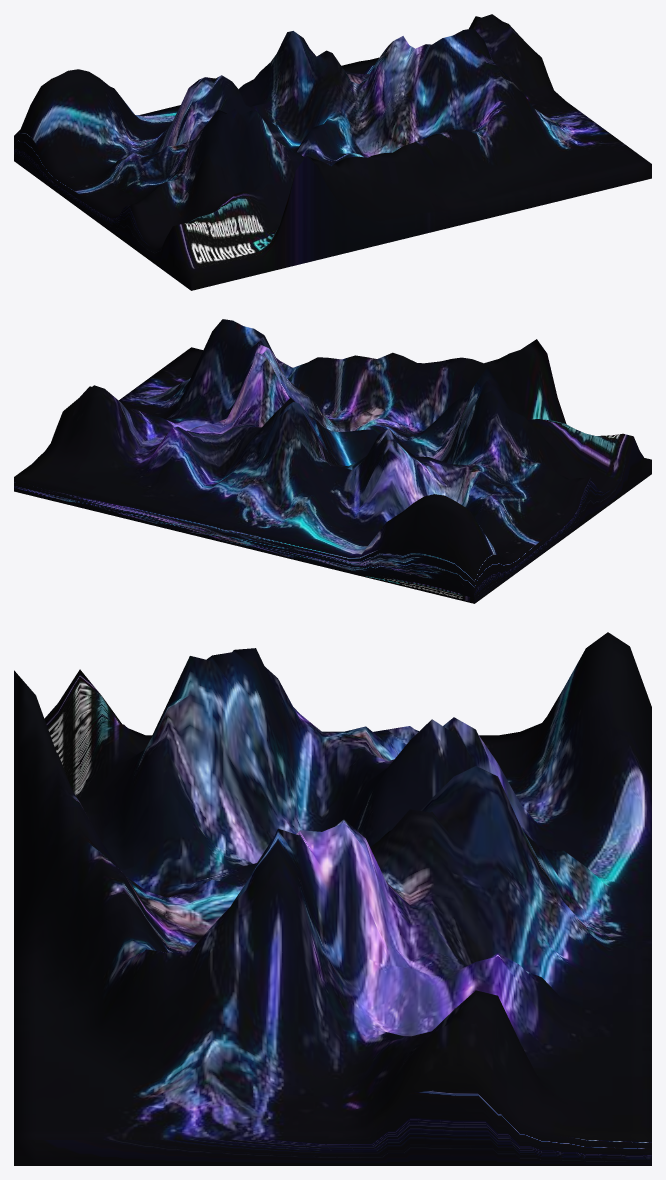
Rendered from EXTRA_Flying_Swords_Group.glb.
3 renders of one model, top to bottom at view 1: azimuth 30°, elevation 25°; view 2: azimuth 150°, elevation 25°; view 3: azimuth 270°, elevation 25°, orthographic. The views are drawn at different scales.
Visible parts, largest first — view 1: EXTRA_Flying_Swords_Group; view 2: EXTRA_Flying_Swords_Group; view 3: EXTRA_Flying_Swords_Group.
Part boxes in pixels (<box>): EXTRA_Flying_Swords_Group: <box>14,14,651,290</box>; EXTRA_Flying_Swords_Group: <box>14,319,651,603</box>; EXTRA_Flying_Swords_Group: <box>14,632,651,1165</box>.
Size of the model in its own units: 2 by 0.51 by 1.33.
1 material, 1 textured.
